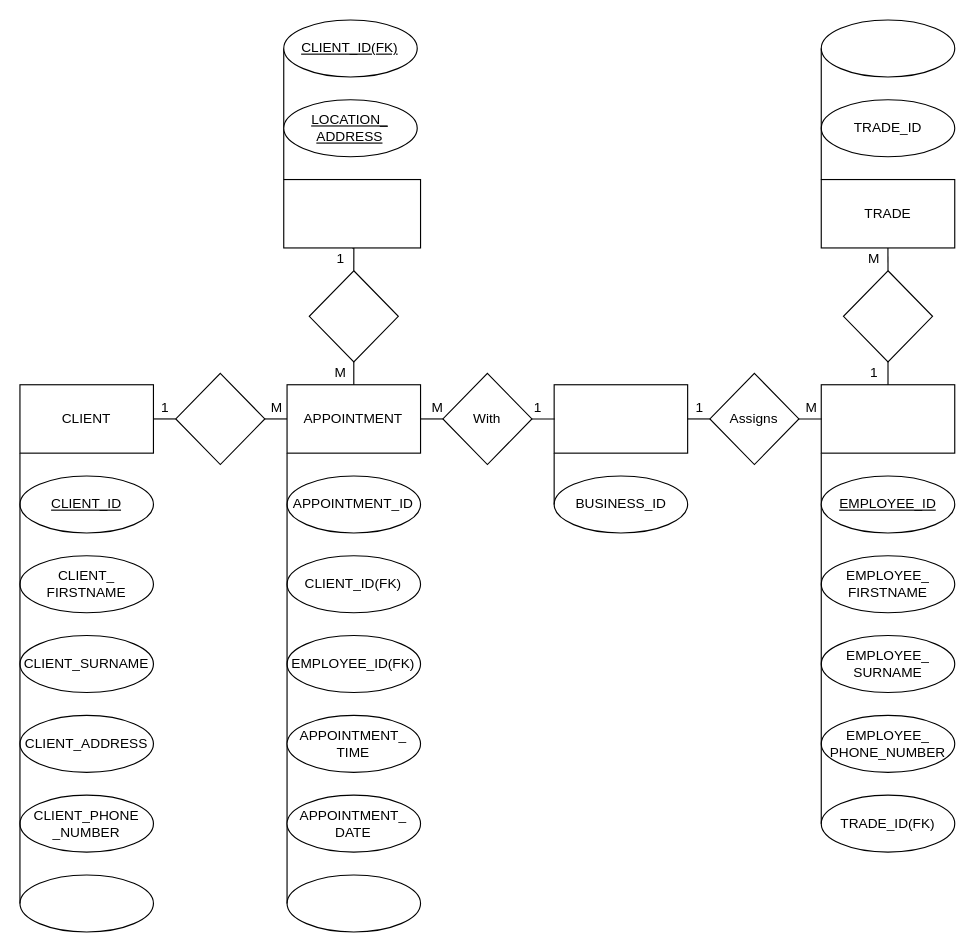
The diagram is 975 pixels wide and 952 high, and some of its shapes have lost their labels. The shapes that lost their labels are listed below. From the top down, each one's centre as x and y in pixels, then its label:
the point at 887,48: TRADE_TITLE
the point at 352,213: LOCATION
the point at 353,316: At
the point at 887,316: Certified
the point at 220,418: Makes
the point at 620,418: BUSINESS
the point at 887,418: EMPLOYEE
the point at 86,903: PREVIOUS_CLIENT
the point at 353,903: APPOINTMENT_ BRIEF
